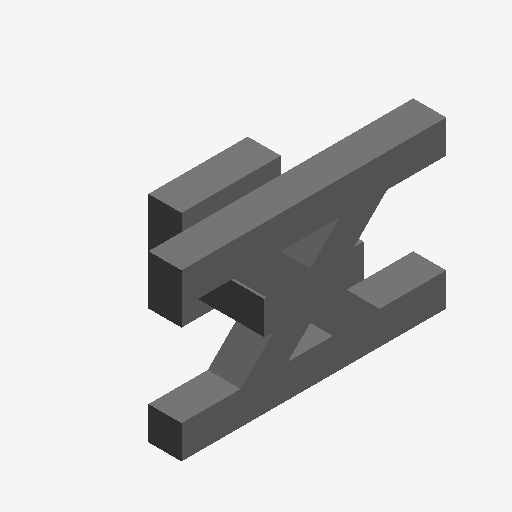
Isometric view (azimuth 45°, elevation 35.3°) of a Minecraft model made of 7 cuboids, textured from the same repository.
Visible parts, largest first — element 2, element 1, element 7, element 3, element 4, element 5, element 6.
Boxes of the visible parts, x1,y1,x2,y2 form: element 2: [148, 98, 445, 308]; element 1: [148, 251, 445, 460]; element 7: [148, 137, 280, 327]; element 3: [208, 168, 390, 393]; element 4: [234, 235, 378, 348]; element 5: [199, 279, 296, 336]; element 6: [330, 239, 363, 298].
Size of the model in its own units: 16 by 10 by 7.